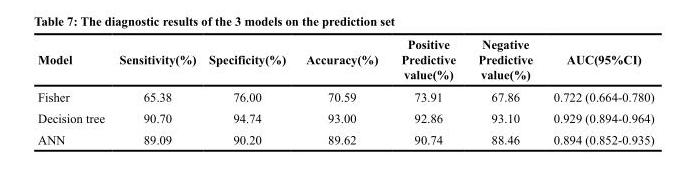table: (37, 36, 653, 146)
table column: (542, 36, 653, 146), (201, 36, 295, 146), (295, 36, 389, 146), (111, 36, 201, 146), (389, 36, 466, 146), (466, 36, 542, 146), (37, 36, 111, 146)
table column header: (37, 36, 653, 85)
table row: (37, 36, 653, 85), (37, 85, 653, 107), (37, 107, 653, 128), (37, 128, 653, 146)
